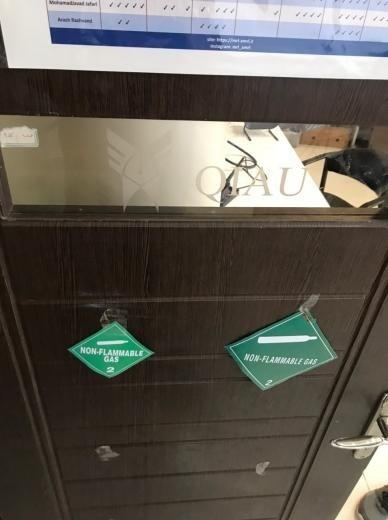non-flammable-gas: (223, 303, 338, 394), (66, 324, 154, 383)
